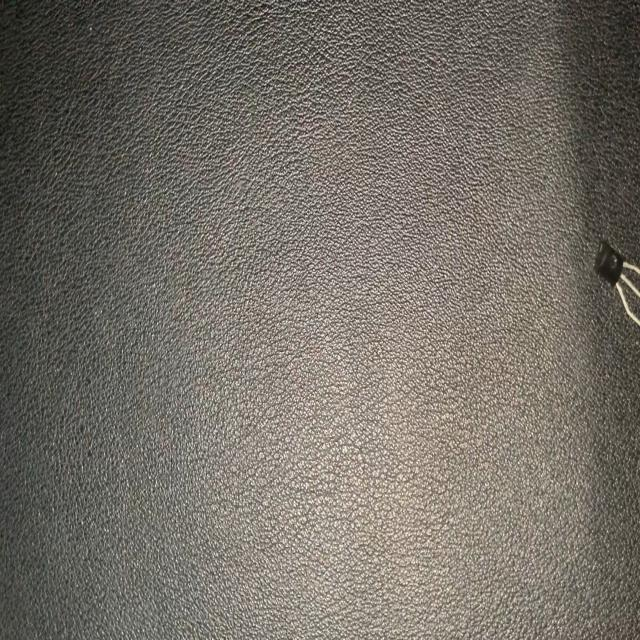BJT: (591, 234, 640, 328)
